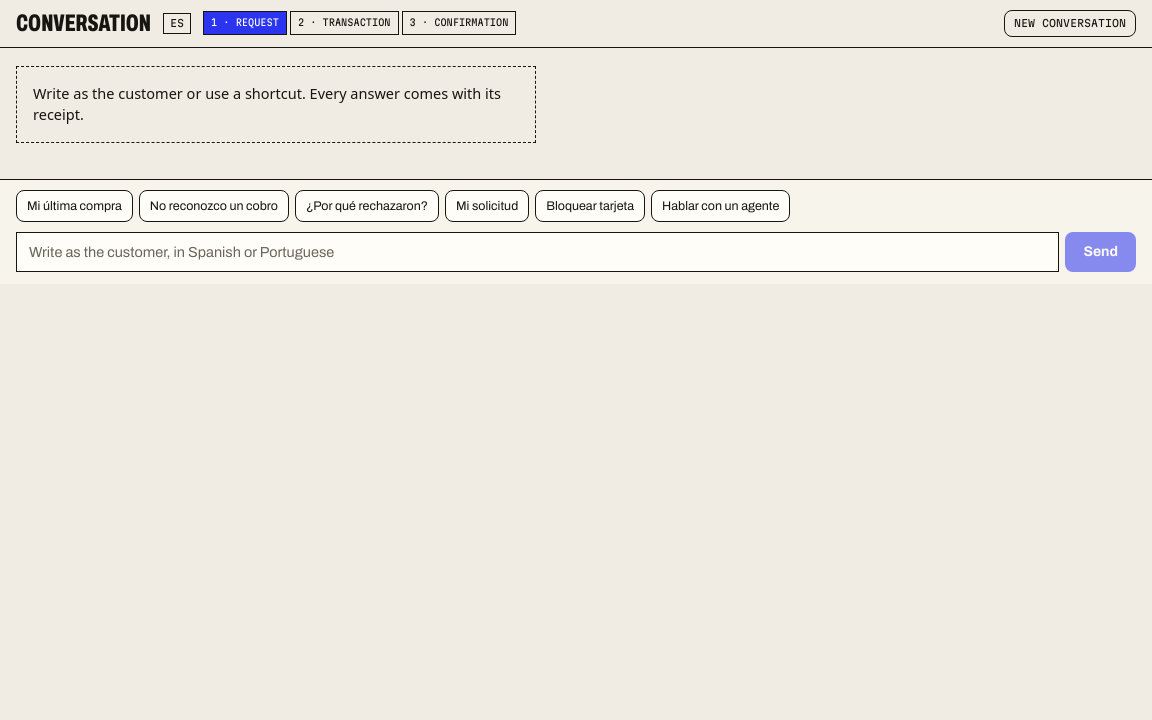
Test: 503 diz que nada foi criado e reenviar manda a mesma mensagem
Type "No reconozco el cobro de Uber" into the field labelled "Write as the customer, in Spanish or Portuguese" at (538, 252), box [16, 232, 1059, 272]
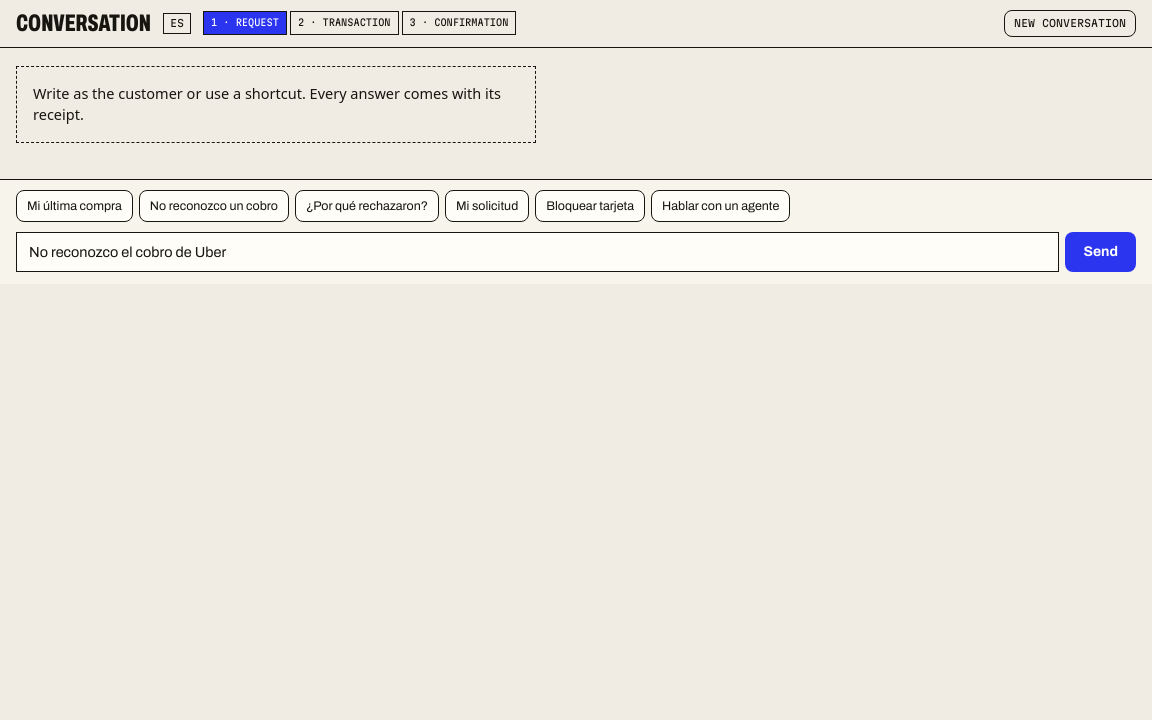
Click the button "Send" at (1101, 252), box [1065, 232, 1136, 272]
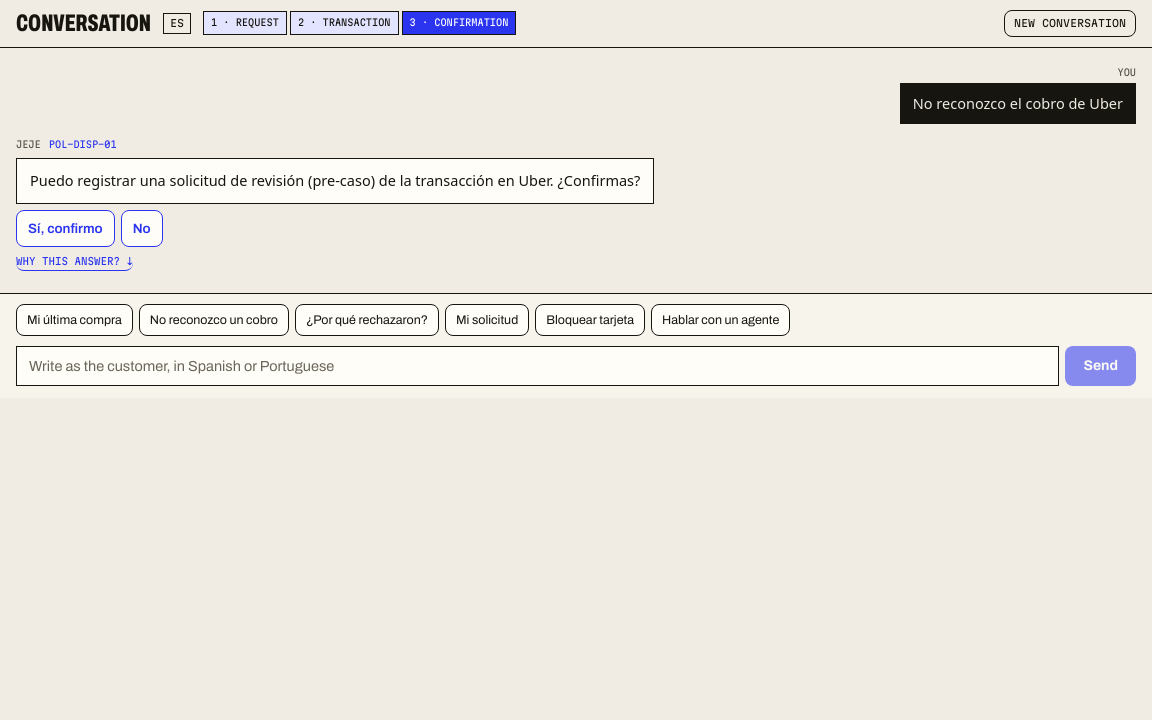
Click the button "Sí, confirmo" at (65, 229), box [16, 210, 115, 247]
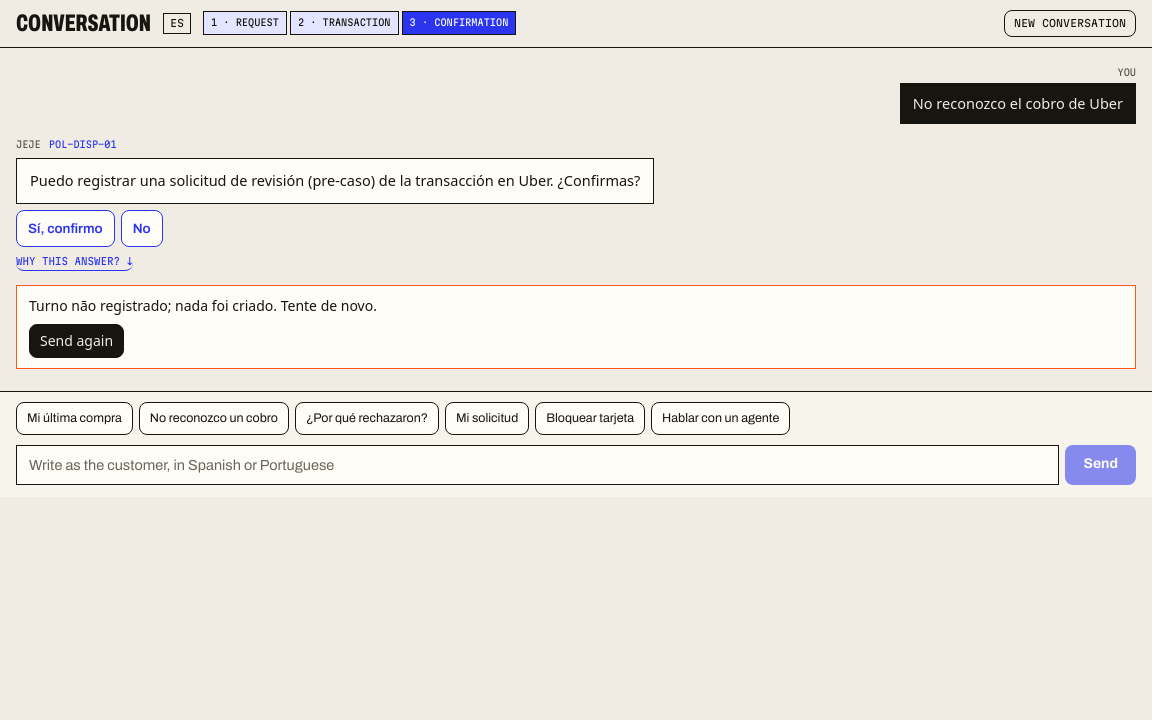
Check: the text "pre-case received" is not shown
Check: the message shows "nada foi criado", box [29, 296, 377, 315]
Click the button "Send again" at (77, 341), box [29, 324, 124, 358]
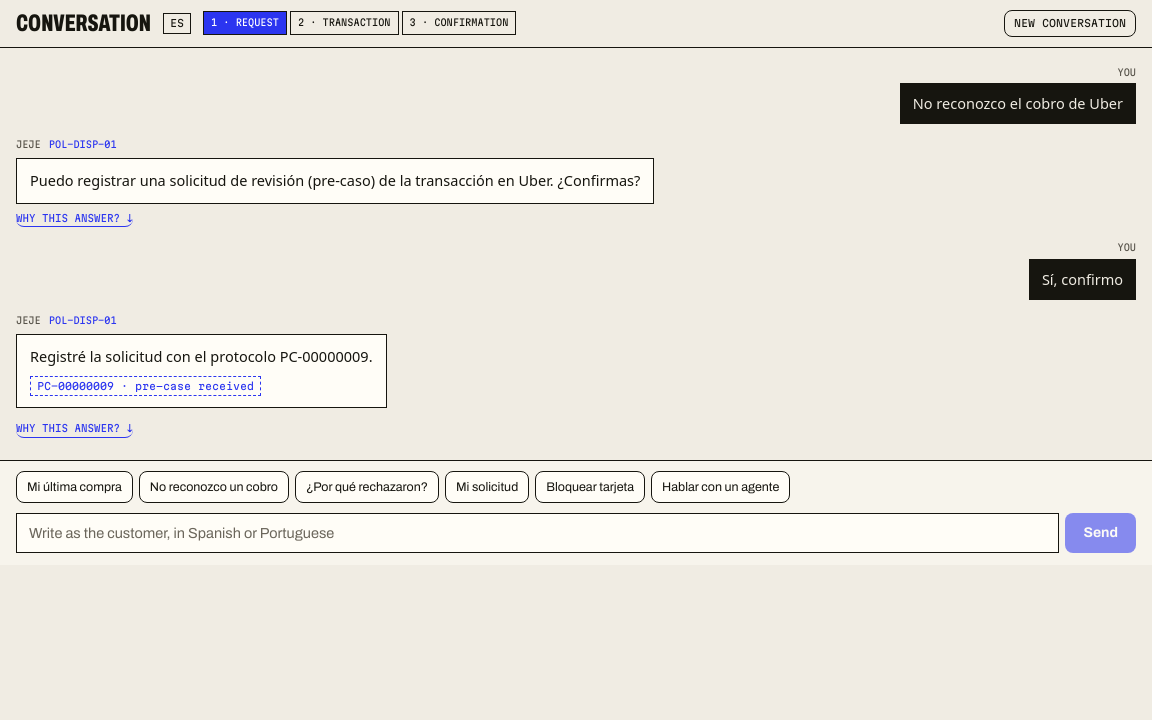
Check: the text "PC-00000009 · pre-case received" is shown, box [30, 376, 261, 396]
